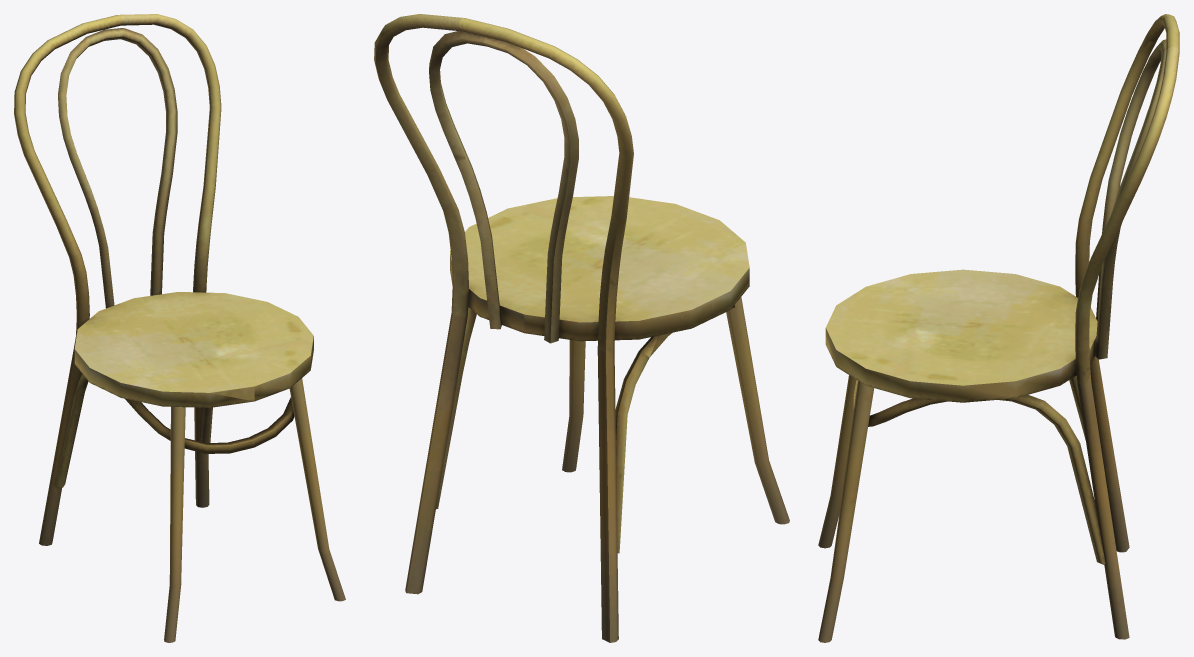
File: thonet_chair.obj
3 views of the same model, side by side, from view 1: azimuth 30°, elevation 25°; view 2: azimuth 150°, elevation 25°; view 3: azimuth 270°, elevation 25° (orthographic). The views are drawn at different scales.
Visible parts, largest first — view 1: Model001_4_thonet chair_1_0_0; view 2: Model001_4_thonet chair_1_0_0; view 3: Model001_4_thonet chair_1_0_0.
Part boxes in pixels (box(x1,y1,x2,y2)): Model001_4_thonet chair_1_0_0: box(14, 14, 345, 642); Model001_4_thonet chair_1_0_0: box(374, 14, 789, 642); Model001_4_thonet chair_1_0_0: box(818, 14, 1179, 642).
Size of the model in its own units: 0.4609 by 1.03 by 0.6067.
